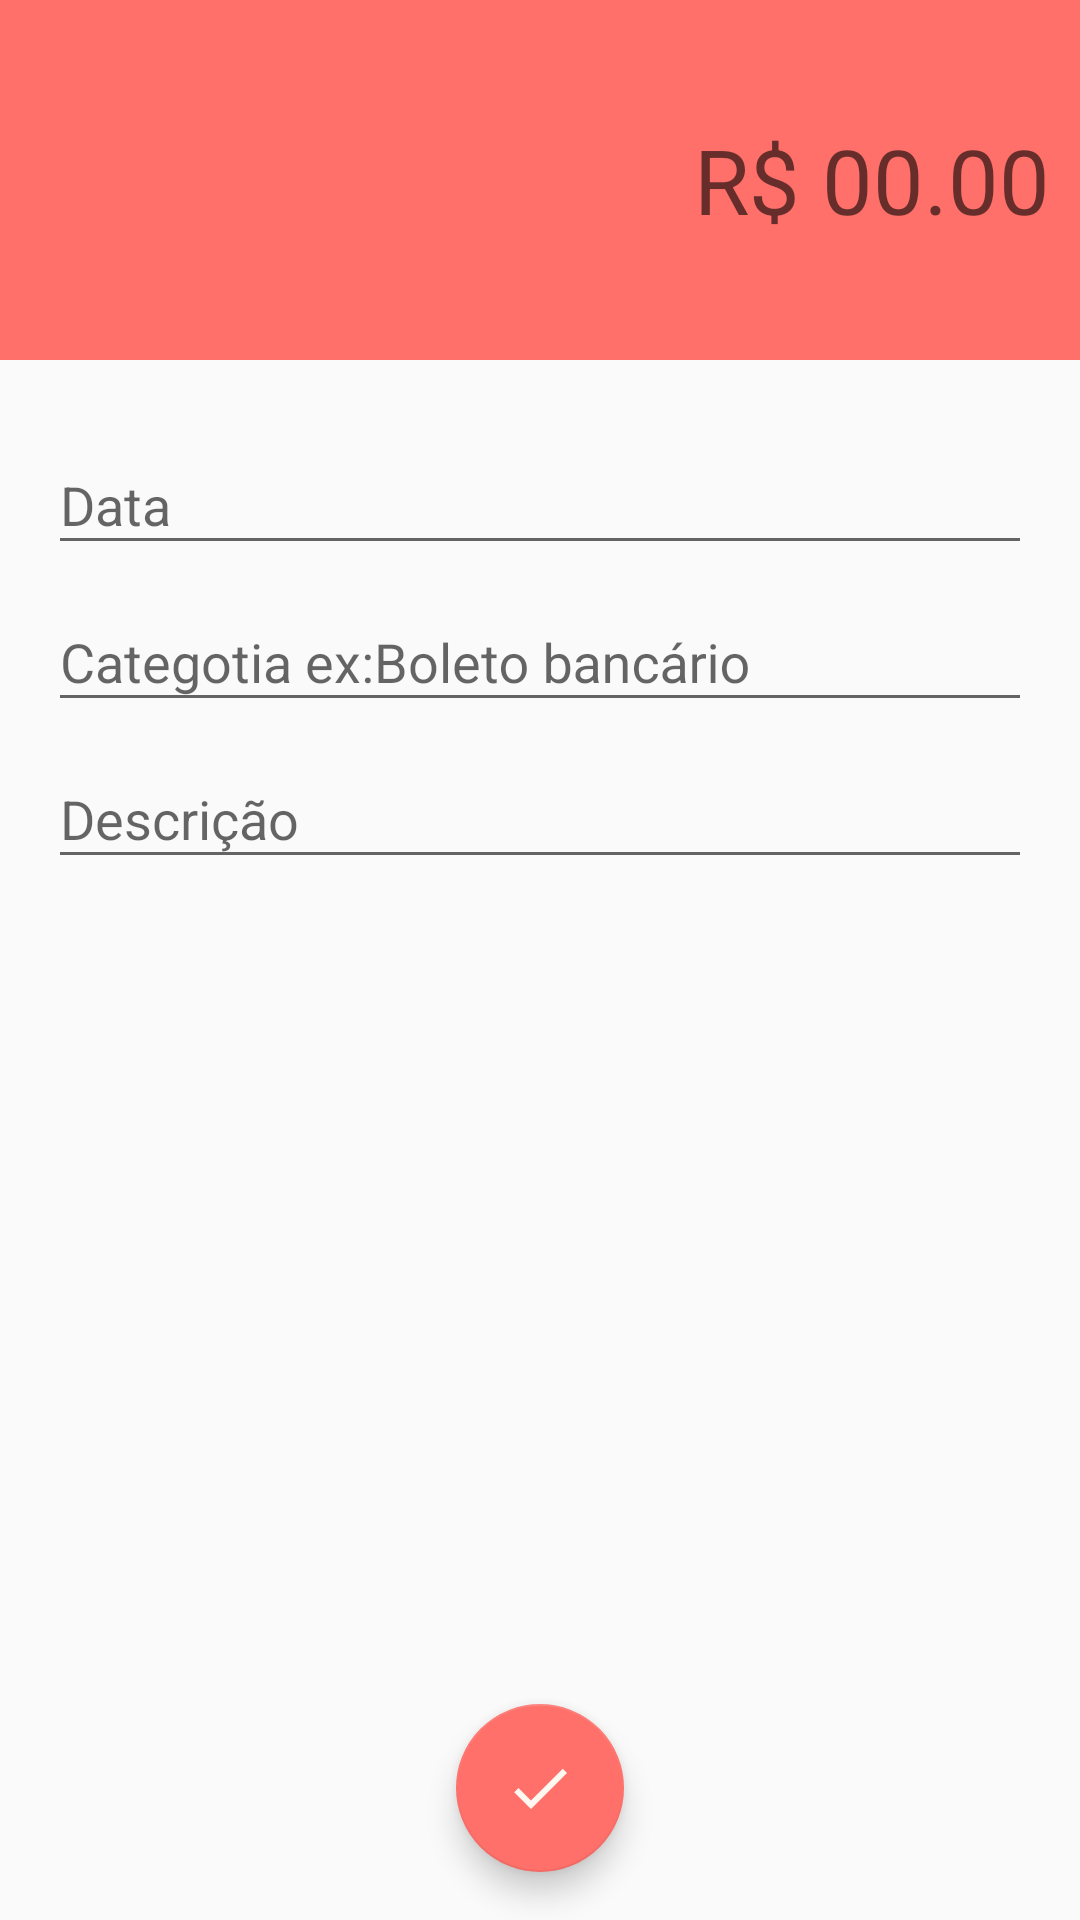

Locate icon controls on the screen. Image size 1080*1920, boxes as (x1, y1, x2, y2).
confirmar branco: (456, 1704, 624, 1872)
